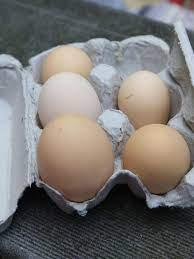egg: (35, 113, 117, 203), (124, 124, 192, 197), (32, 72, 101, 129), (118, 68, 176, 125), (38, 42, 92, 82)
